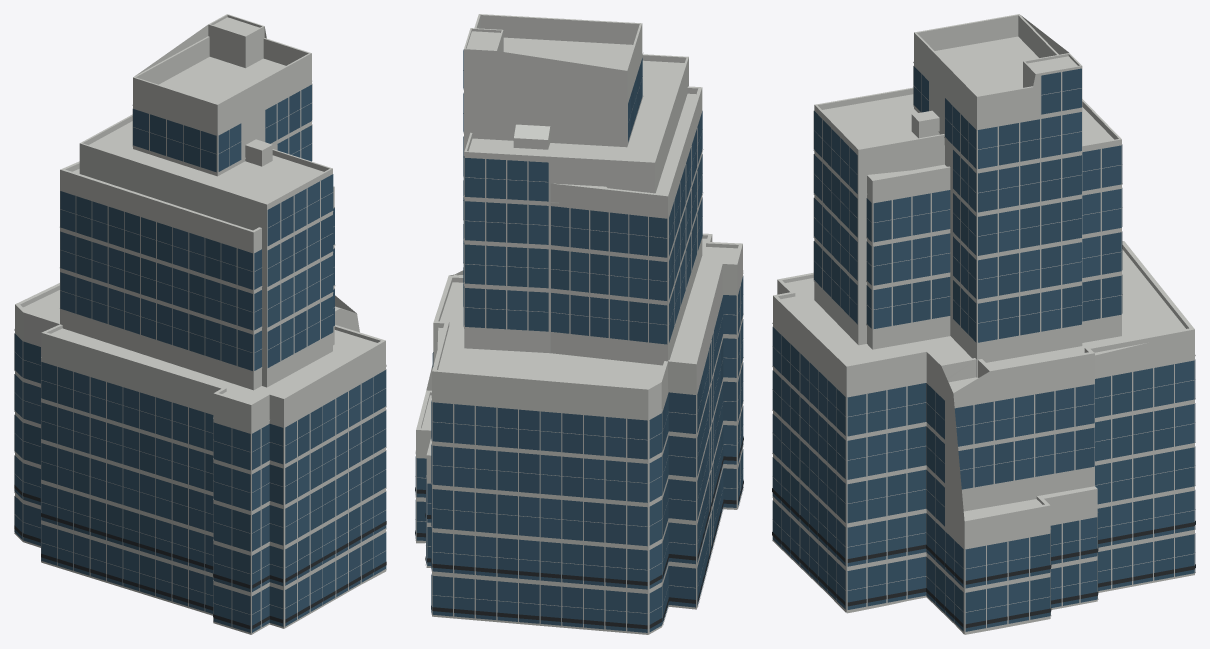
The model's file is cine-tower.glb.
The picture shows the model from 3 angles, left to right: view 1: azimuth 30°, elevation 25°; view 2: azimuth 150°, elevation 25°; view 3: azimuth 270°, elevation 25°; orthographic projection. The views are drawn at different scales.
Parts seen in each view (by area): view 1: cine-tower_wall, cine-tower_glass2, cine-tower_glass0, cine-tower_glass1, cine-tower_roof, cine-tower_frame, cine-tower_spandrel, cine-tower_sign_housing; view 2: cine-tower_wall, cine-tower_glass2, cine-tower_glass0, cine-tower_glass1, cine-tower_roof, cine-tower_frame, cine-tower_spandrel, cine-tower_sign_housing; view 3: cine-tower_wall, cine-tower_glass0, cine-tower_glass2, cine-tower_glass1, cine-tower_roof, cine-tower_frame, cine-tower_spandrel, cine-tower_sign_housing.
Boxes of the visible parts, x1=… form: cine-tower_wall: x1=15, y1=15, x2=386, y2=634; cine-tower_glass2: x1=14, y1=84, x2=386, y2=626; cine-tower_glass0: x1=14, y1=91, x2=386, y2=632; cine-tower_glass1: x1=14, y1=104, x2=386, y2=632; cine-tower_roof: x1=15, y1=14, x2=385, y2=404; cine-tower_frame: x1=14, y1=84, x2=386, y2=627; cine-tower_spandrel: x1=14, y1=81, x2=386, y2=633; cine-tower_sign_housing: x1=14, y1=485, x2=386, y2=629; cine-tower_wall: x1=416, y1=15, x2=742, y2=634; cine-tower_glass2: x1=426, y1=93, x2=743, y2=624; cine-tower_glass0: x1=415, y1=49, x2=743, y2=631; cine-tower_glass1: x1=416, y1=58, x2=743, y2=632; cine-tower_roof: x1=416, y1=14, x2=742, y2=455; cine-tower_frame: x1=415, y1=70, x2=743, y2=632; cine-tower_spandrel: x1=415, y1=52, x2=743, y2=634; cine-tower_sign_housing: x1=415, y1=436, x2=743, y2=629; cine-tower_wall: x1=773, y1=15, x2=1194, y2=634; cine-tower_glass0: x1=772, y1=66, x2=1194, y2=631; cine-tower_glass2: x1=772, y1=74, x2=1195, y2=627; cine-tower_glass1: x1=772, y1=98, x2=1195, y2=621; cine-tower_roof: x1=773, y1=14, x2=1194, y2=521; cine-tower_frame: x1=772, y1=66, x2=1195, y2=631; cine-tower_spandrel: x1=772, y1=62, x2=1195, y2=633; cine-tower_sign_housing: x1=772, y1=488, x2=1195, y2=627.
Size of the model in its own units: 41.74 by 66.36 by 48.81.
